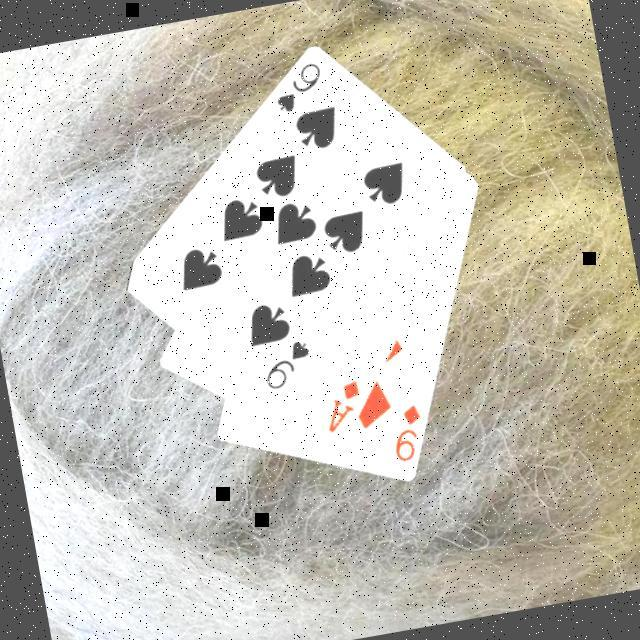9D: (383, 400, 431, 468)
9S: (266, 59, 330, 120), (255, 336, 319, 396)
AD: (316, 377, 369, 438)
